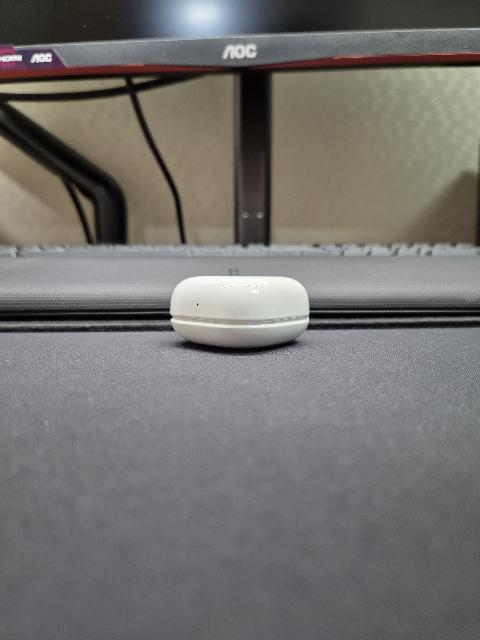earphone_case: (170, 276, 310, 348)
